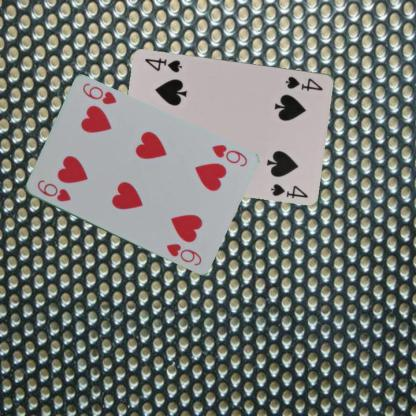4s: (283, 74, 324, 92)
6h: (208, 142, 249, 168), (34, 178, 72, 204)
